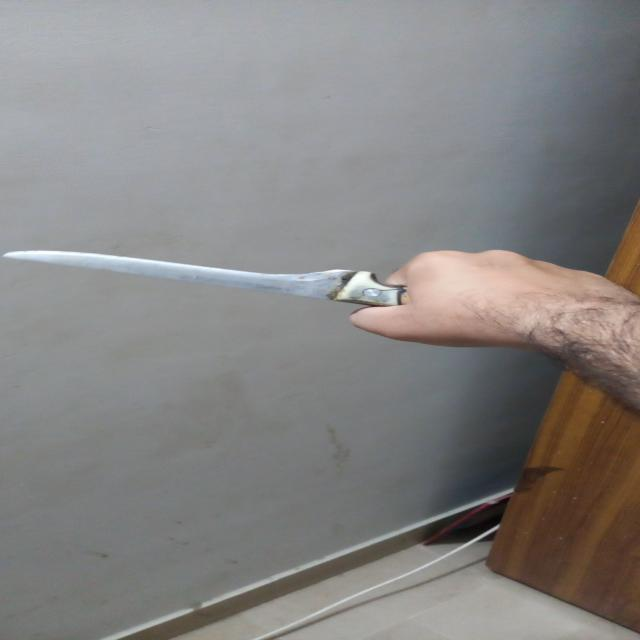knife: (0, 220, 412, 326)
